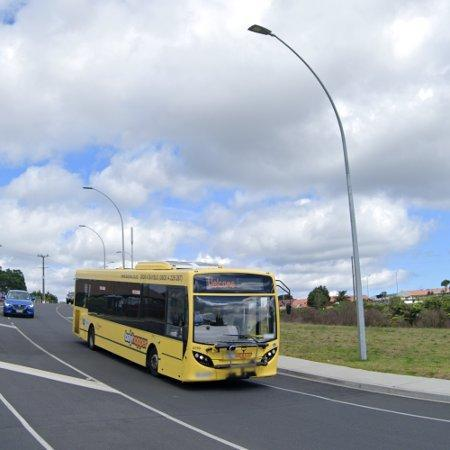buses: (72, 263, 280, 383)
